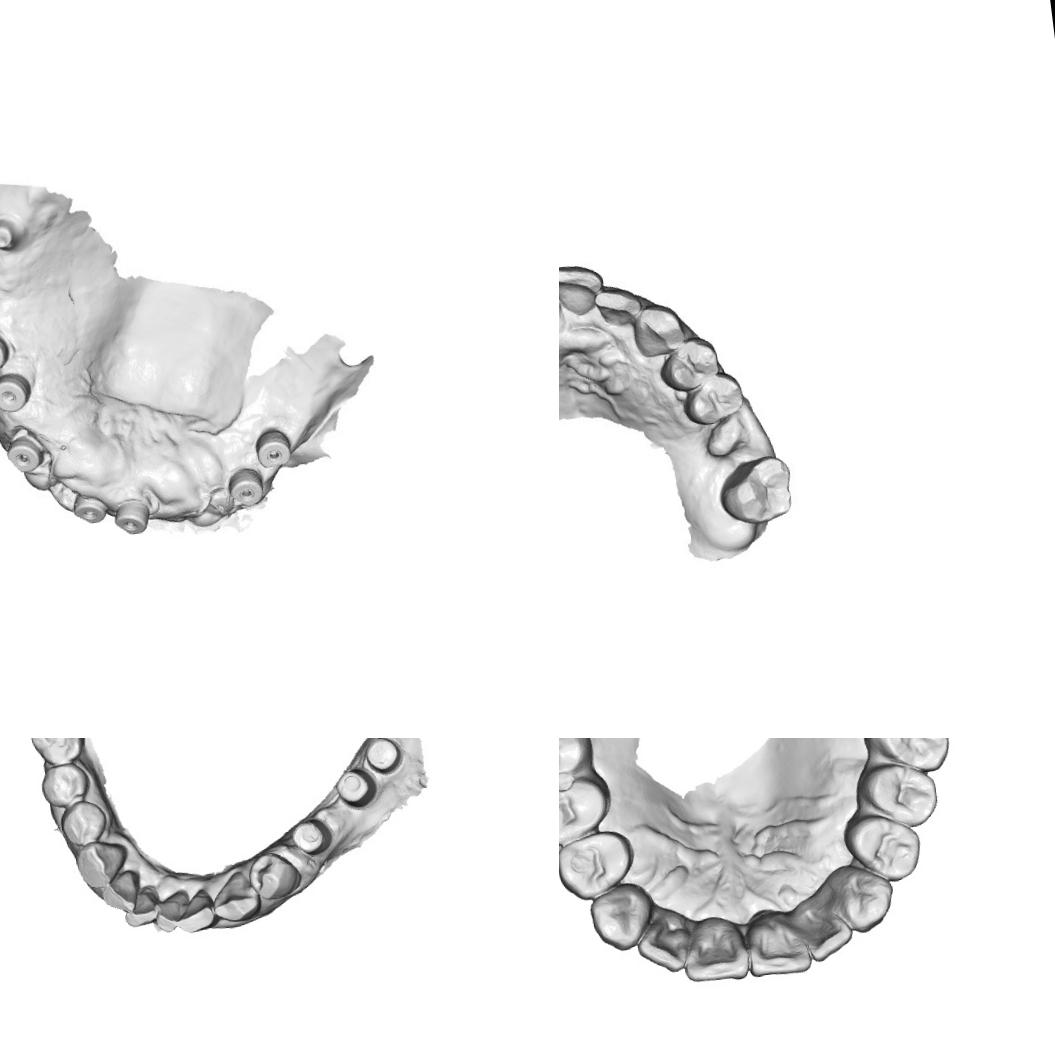abutment: (332, 764, 380, 810), (288, 814, 335, 858), (362, 738, 405, 776), (0, 216, 18, 250)
canine: (582, 879, 660, 957), (828, 858, 900, 938), (208, 868, 264, 925), (72, 837, 131, 891), (634, 309, 682, 357)
implant: (3, 426, 48, 476), (252, 428, 292, 472), (227, 468, 269, 508), (110, 495, 150, 536), (74, 488, 114, 528), (0, 369, 34, 414), (0, 328, 10, 374)
incisor: (676, 914, 754, 988), (741, 909, 814, 982), (632, 913, 696, 979), (798, 900, 856, 966), (559, 262, 606, 317), (596, 285, 646, 331), (98, 868, 141, 916), (174, 886, 217, 934), (152, 891, 192, 934), (121, 889, 162, 930)
molar: (714, 450, 796, 534), (857, 738, 957, 779), (559, 738, 599, 797), (26, 738, 89, 769)
premolar: (853, 756, 942, 834), (841, 807, 925, 888), (559, 832, 632, 903), (559, 777, 619, 849), (685, 371, 752, 430), (657, 336, 722, 395), (244, 847, 304, 904), (37, 760, 93, 810), (56, 798, 111, 848)
